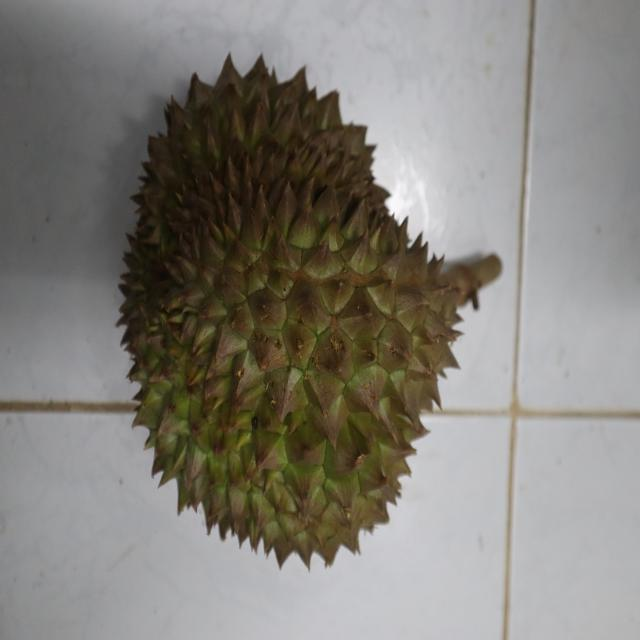mature: (116, 55, 464, 560)
